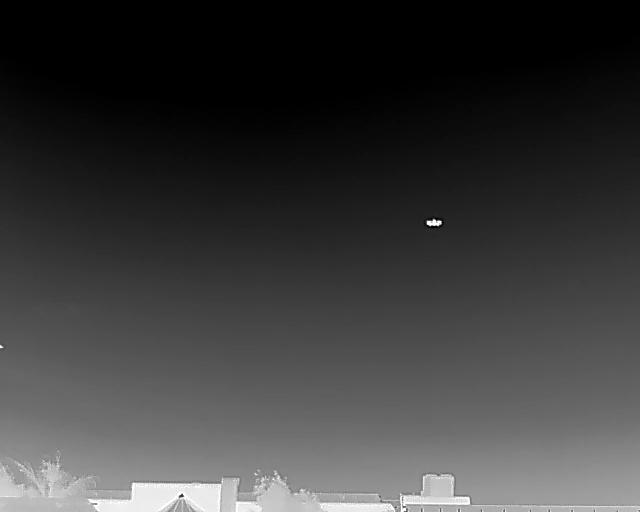fpv-drone: (424, 217, 442, 228)
